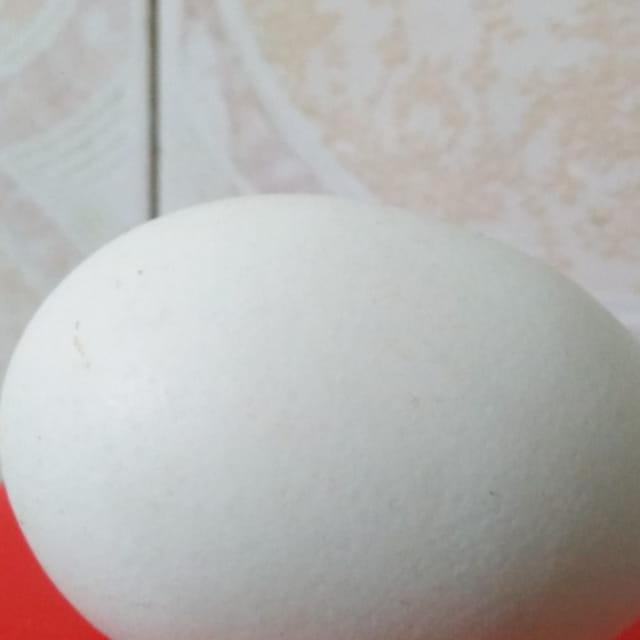egg: (3, 200, 640, 640)
